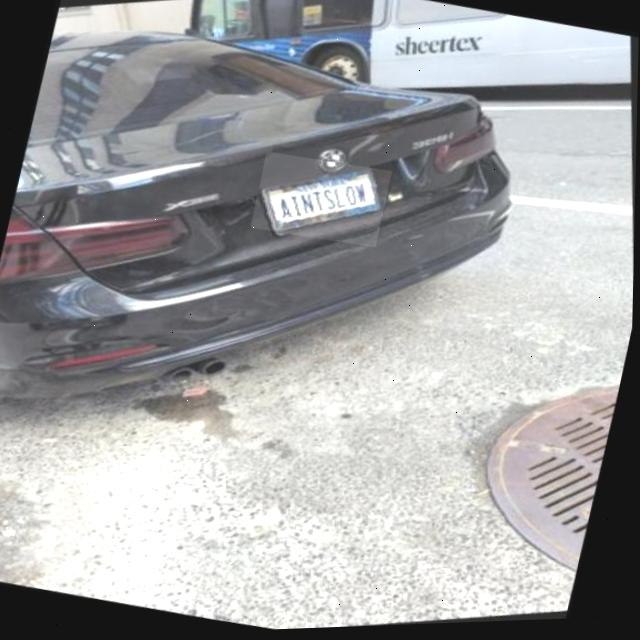LicensePlate: (261, 172, 385, 234)
